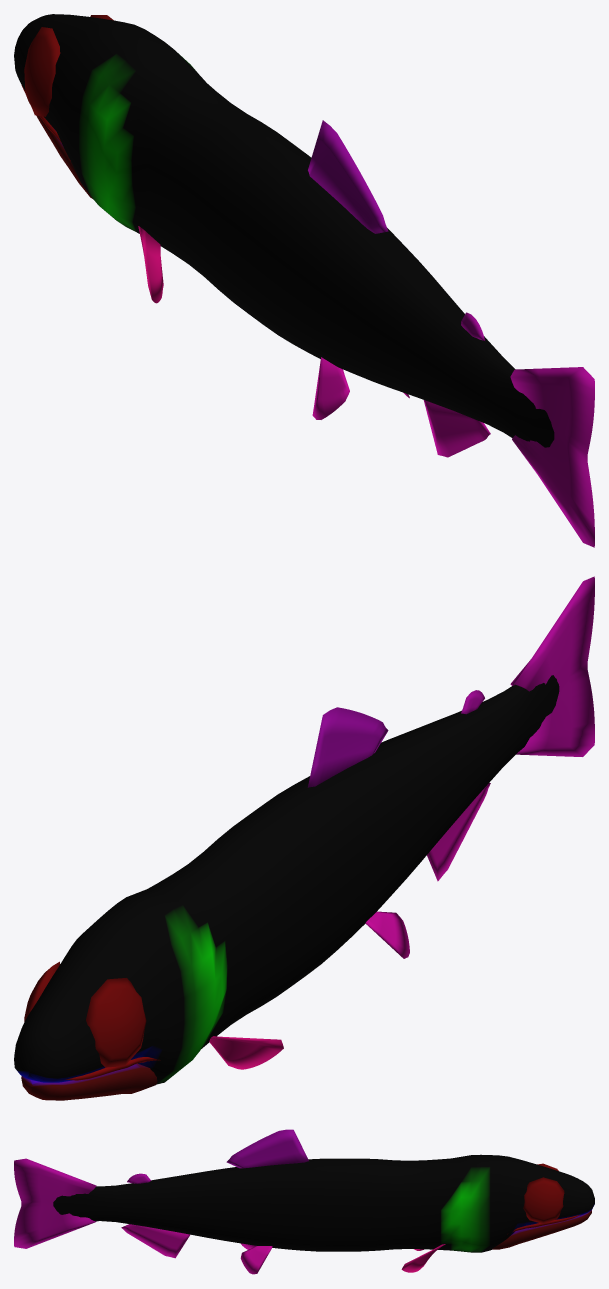
File: sockeye_fry_lo.glb
The picture shows the model from 3 angles, top to bottom: view 1: azimuth 30°, elevation 25°; view 2: azimuth 150°, elevation 25°; view 3: azimuth 270°, elevation 25°; orthographic projection. The views are drawn at different scales.
Visible parts, largest first — view 1: sockeye_fry_lo; view 2: sockeye_fry_lo; view 3: sockeye_fry_lo.
Part boxes in pixels (bbox=[...]): sockeye_fry_lo: bbox=[14, 14, 594, 547]; sockeye_fry_lo: bbox=[14, 576, 594, 1100]; sockeye_fry_lo: bbox=[14, 1129, 594, 1274].
Bounding box in the file's own units: 0.0799 × 0.149 × 0.5877.
